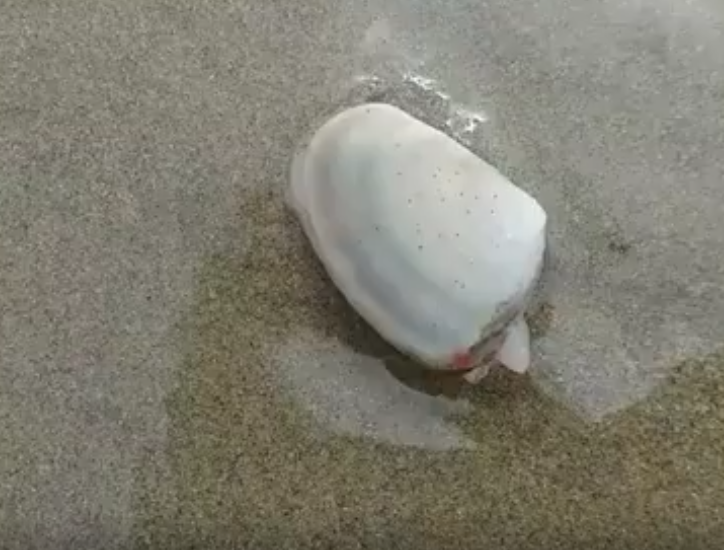tuatua: (288, 98, 561, 378)
